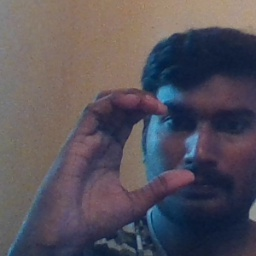C: (91, 84, 196, 211)
